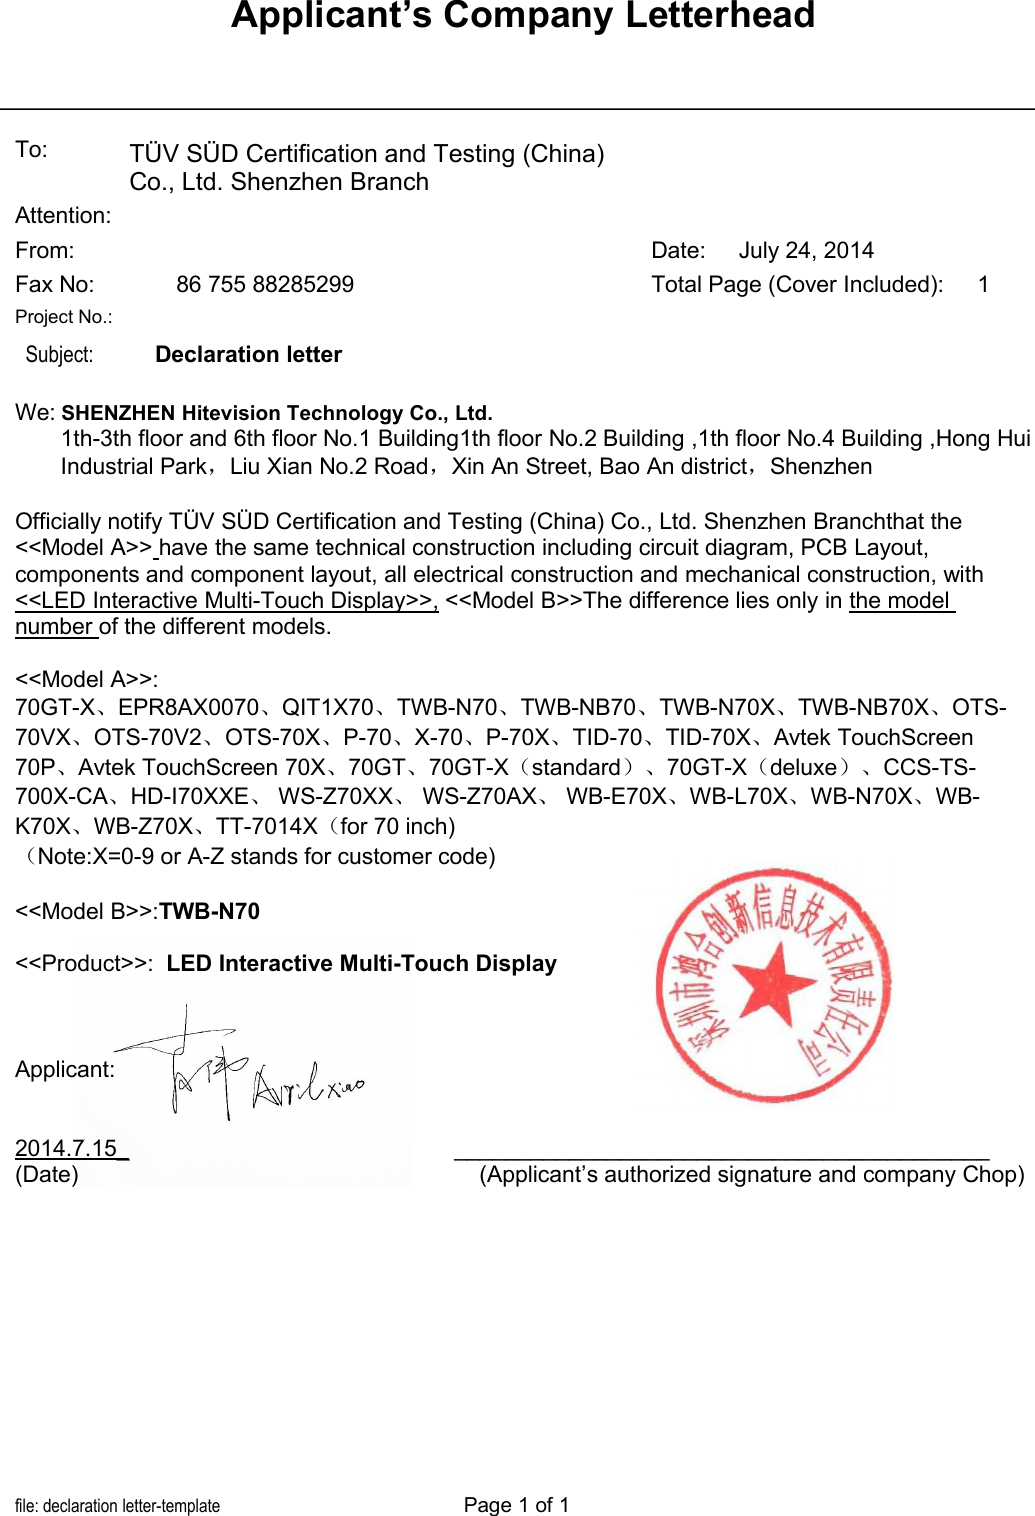Round chop: (647, 855, 906, 1125)
